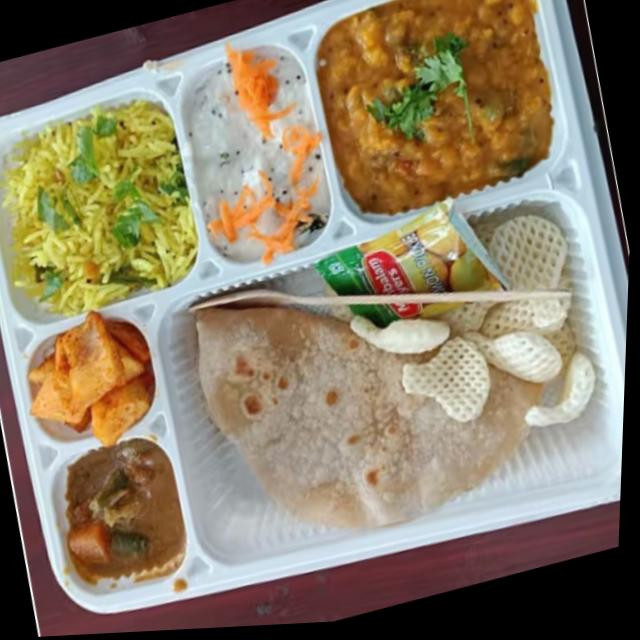CHAPATHI: (196, 308, 537, 525)
CURD RICE: (193, 56, 323, 256)
DAL: (322, 0, 546, 214)
RICE: (7, 106, 193, 308)
VEGGIES: (66, 448, 181, 573), (42, 319, 152, 447)
